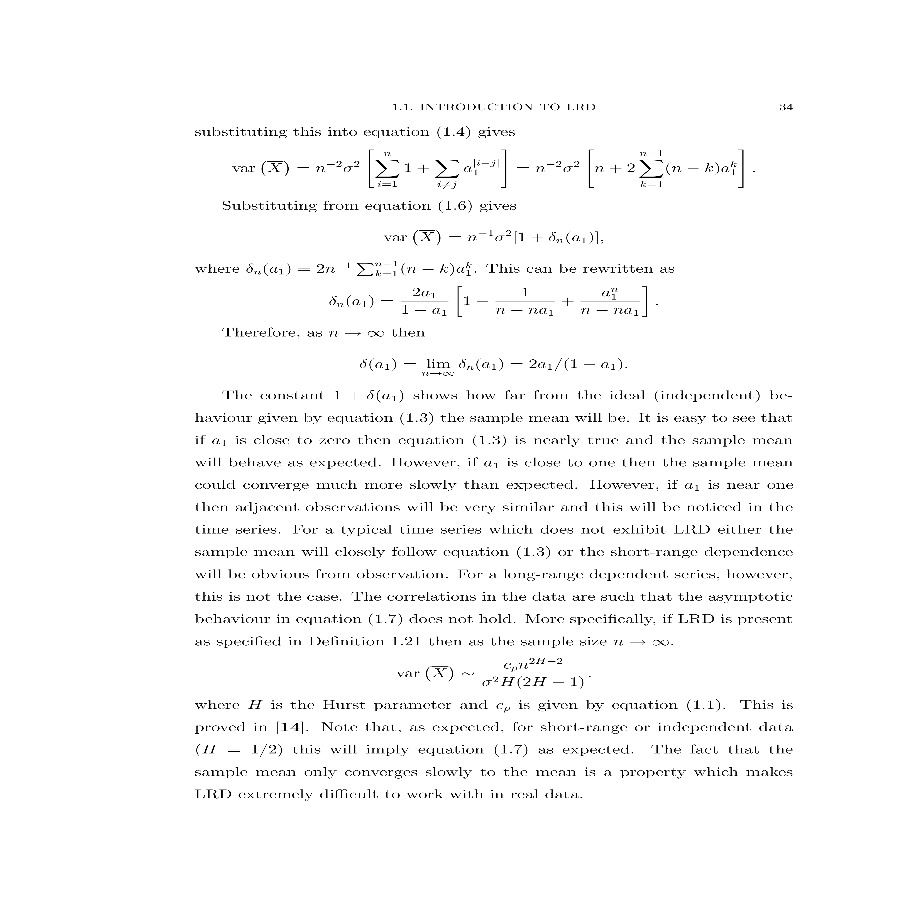eq: (229, 145, 746, 193), (327, 282, 651, 321), (355, 352, 624, 379), (394, 653, 585, 691), (380, 225, 602, 249)
